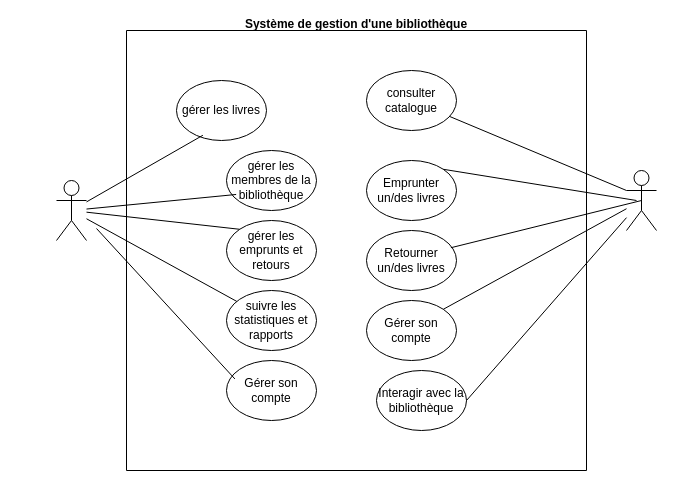
The diagram is 683 pixels wide and 488 high, and some of its shapes have lost their labels. The shapes that lost their labels are listed below. From the top down, each one's centre as x and y in pixels, then its label:
At point 71,210: "Bibliothécaire".
At point 641,200: "lecteur".
